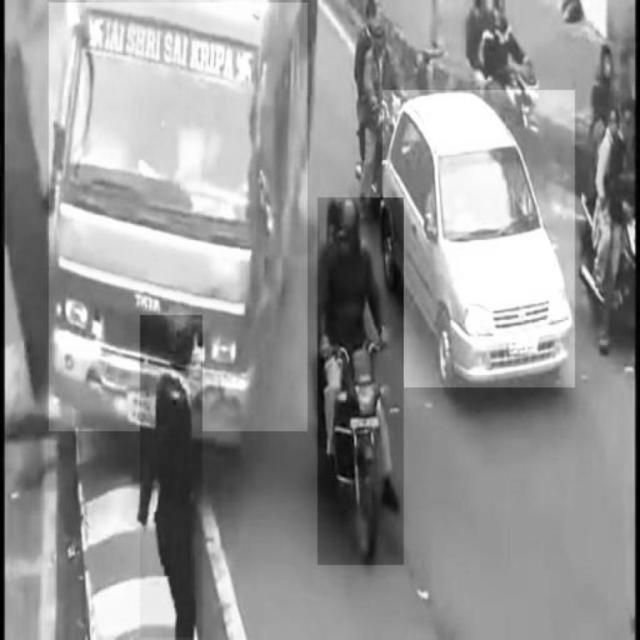person: (141, 316, 203, 638)
vehicle: (49, 3, 307, 431), (382, 91, 576, 388), (318, 198, 404, 565)
